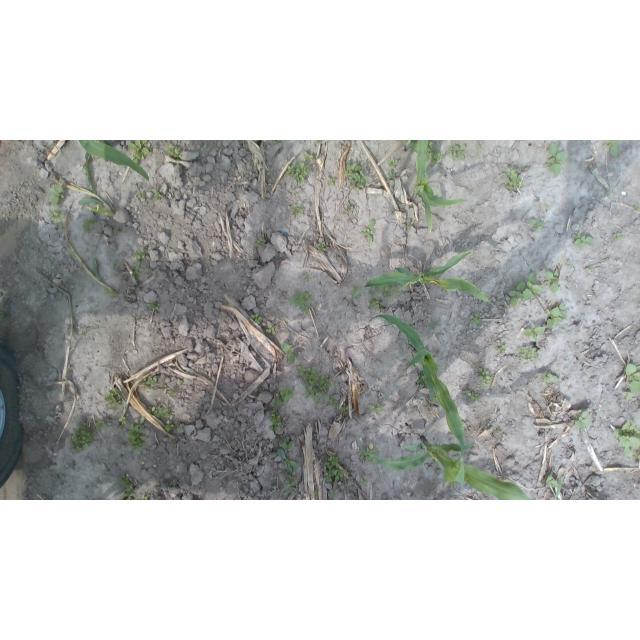Maize: (368, 314, 466, 464), (356, 436, 530, 501), (347, 249, 496, 308), (414, 141, 473, 234), (77, 141, 148, 184)
Weeds: (297, 364, 347, 413), (509, 272, 562, 309), (522, 305, 566, 337), (613, 421, 640, 458), (277, 438, 302, 475), (545, 144, 567, 177), (147, 409, 176, 434), (622, 362, 640, 401), (324, 454, 346, 484), (128, 417, 147, 449), (288, 291, 312, 314), (347, 164, 369, 189), (127, 141, 150, 164), (69, 428, 90, 453), (546, 475, 564, 500), (288, 163, 309, 184), (134, 249, 147, 280), (360, 220, 376, 244), (275, 386, 293, 407), (49, 185, 65, 207), (504, 170, 521, 190), (105, 389, 123, 407), (121, 477, 135, 500), (362, 444, 378, 464), (574, 235, 594, 250), (576, 411, 591, 430), (282, 344, 295, 364), (604, 140, 620, 156), (269, 412, 283, 430), (284, 477, 298, 494), (519, 348, 537, 361), (479, 369, 491, 387), (542, 373, 560, 384), (82, 218, 96, 232), (452, 144, 466, 158), (166, 146, 182, 157), (49, 212, 63, 224), (466, 391, 479, 402), (370, 404, 383, 414), (471, 315, 482, 326), (418, 376, 427, 389), (431, 152, 444, 161), (265, 325, 276, 335), (251, 314, 261, 324), (531, 220, 542, 229), (95, 420, 104, 431), (370, 298, 384, 305), (153, 189, 162, 199), (291, 207, 301, 216), (147, 303, 158, 311), (166, 389, 177, 397), (362, 475, 369, 487), (304, 152, 313, 161), (147, 378, 156, 387), (498, 345, 506, 355), (256, 238, 265, 246), (614, 233, 623, 240), (390, 160, 398, 167), (138, 192, 145, 199), (388, 172, 395, 179), (318, 245, 325, 252), (304, 273, 310, 281), (347, 204, 353, 211), (176, 380, 182, 387), (329, 178, 335, 185), (637, 205, 640, 211)
